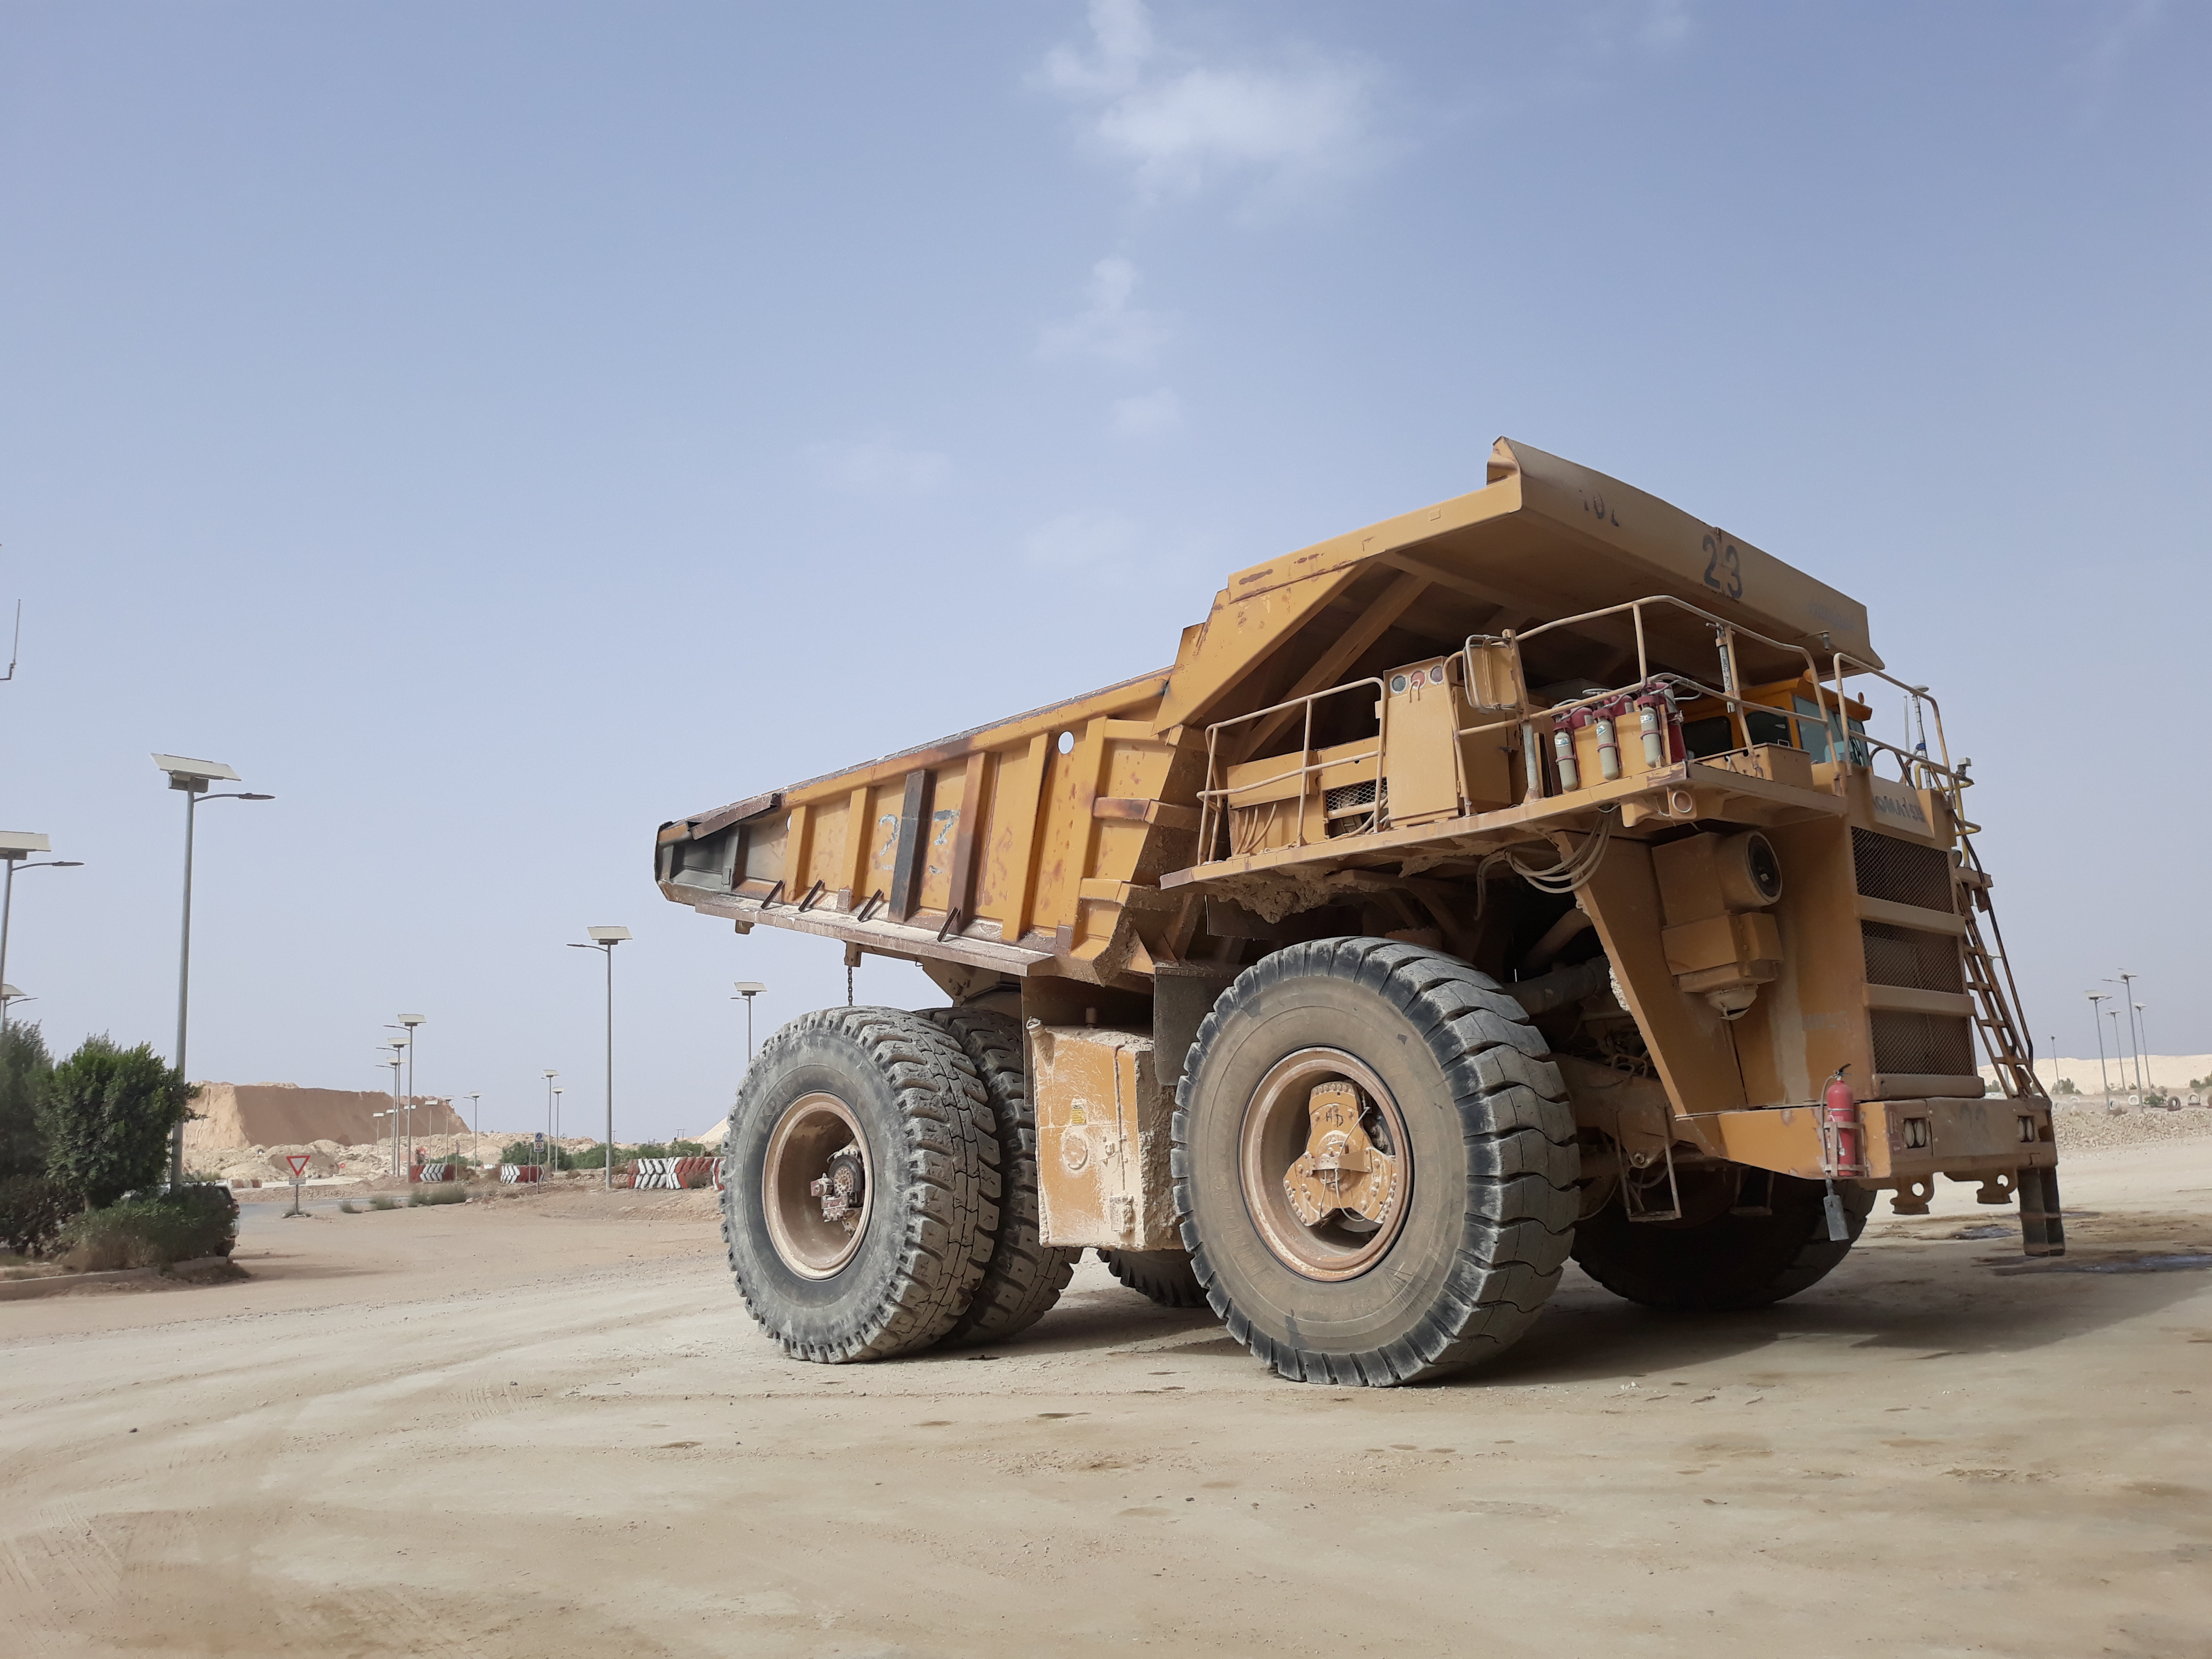camion: (589, 418, 2109, 1422)
